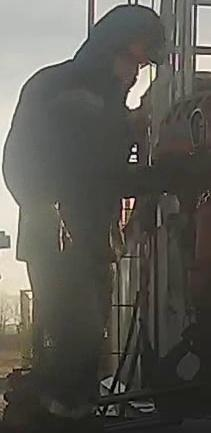gloves: (17, 191, 79, 258), (158, 151, 211, 193)
helmet: (96, 3, 175, 69)
vest: (3, 51, 132, 276)
